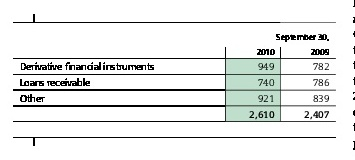table: (0, 0, 355, 160)
